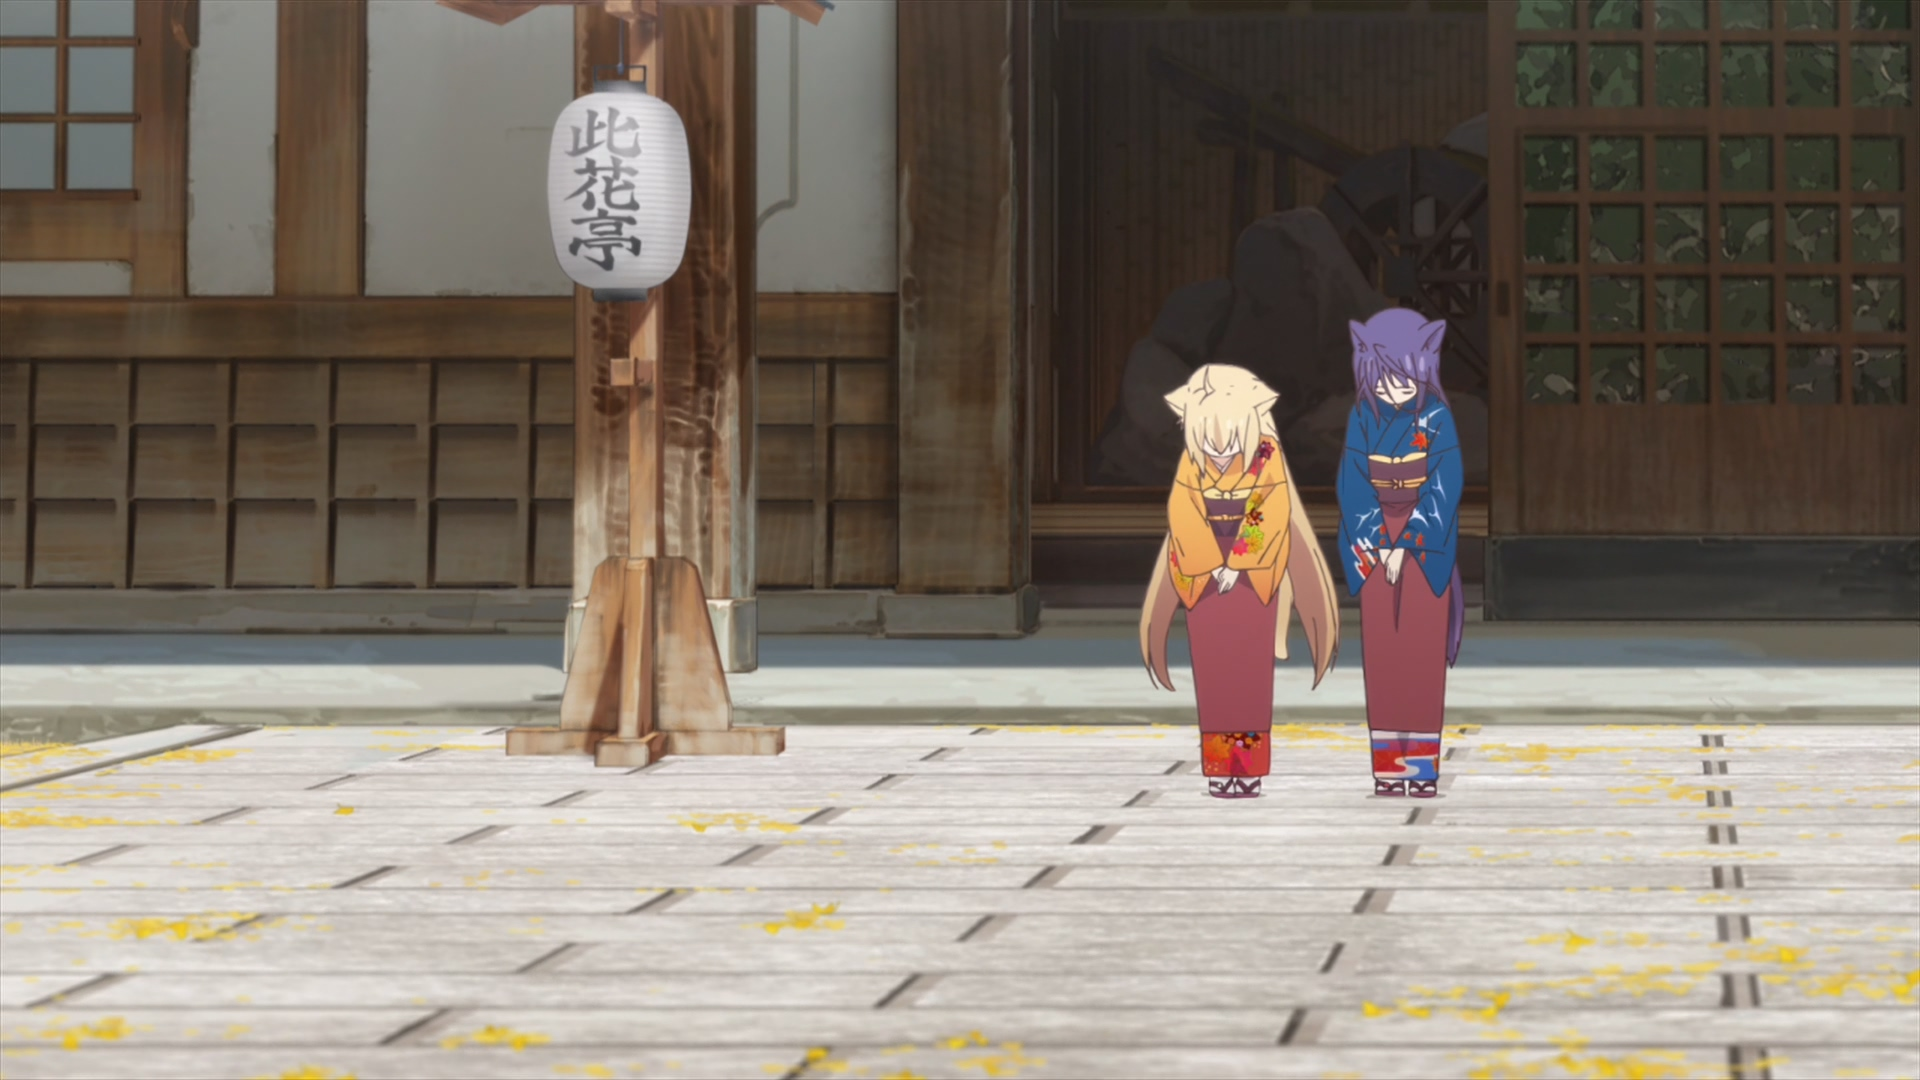柚: (1141, 357, 1338, 796)
皋: (1337, 309, 1465, 798)
